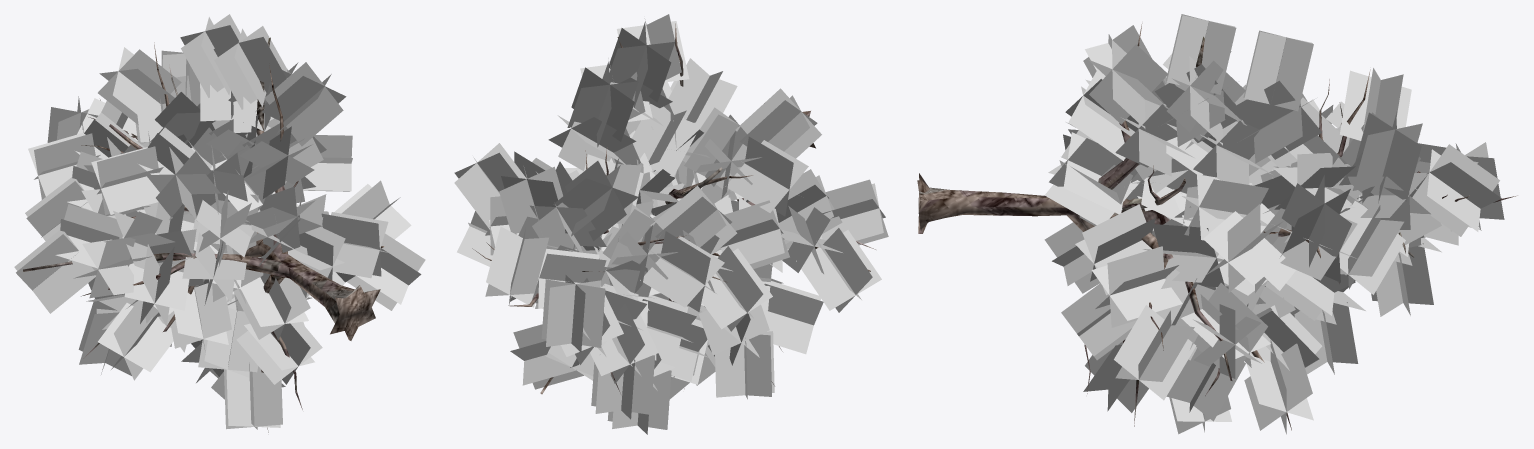
File: Tree 1.glb
3 views of the same model, side by side, from view 1: azimuth 30°, elevation 25°; view 2: azimuth 150°, elevation 25°; view 3: azimuth 270°, elevation 25° (orthographic). The views are drawn at different scales.
Visible parts, largest first — view 1: Tree 01 Elaborate; view 2: Tree 01 Elaborate; view 3: Tree 01 Elaborate.
Part boxes in pixels (left/top/right/bottom): Tree 01 Elaborate: left=14, top=14, right=425, bottom=432; Tree 01 Elaborate: left=454, top=14, right=888, bottom=434; Tree 01 Elaborate: left=917, top=14, right=1517, bottom=434.
Size of the model in its own units: 1.63 by 1.49 by 1.91.
Materials: 2 (1 with a texture image).
